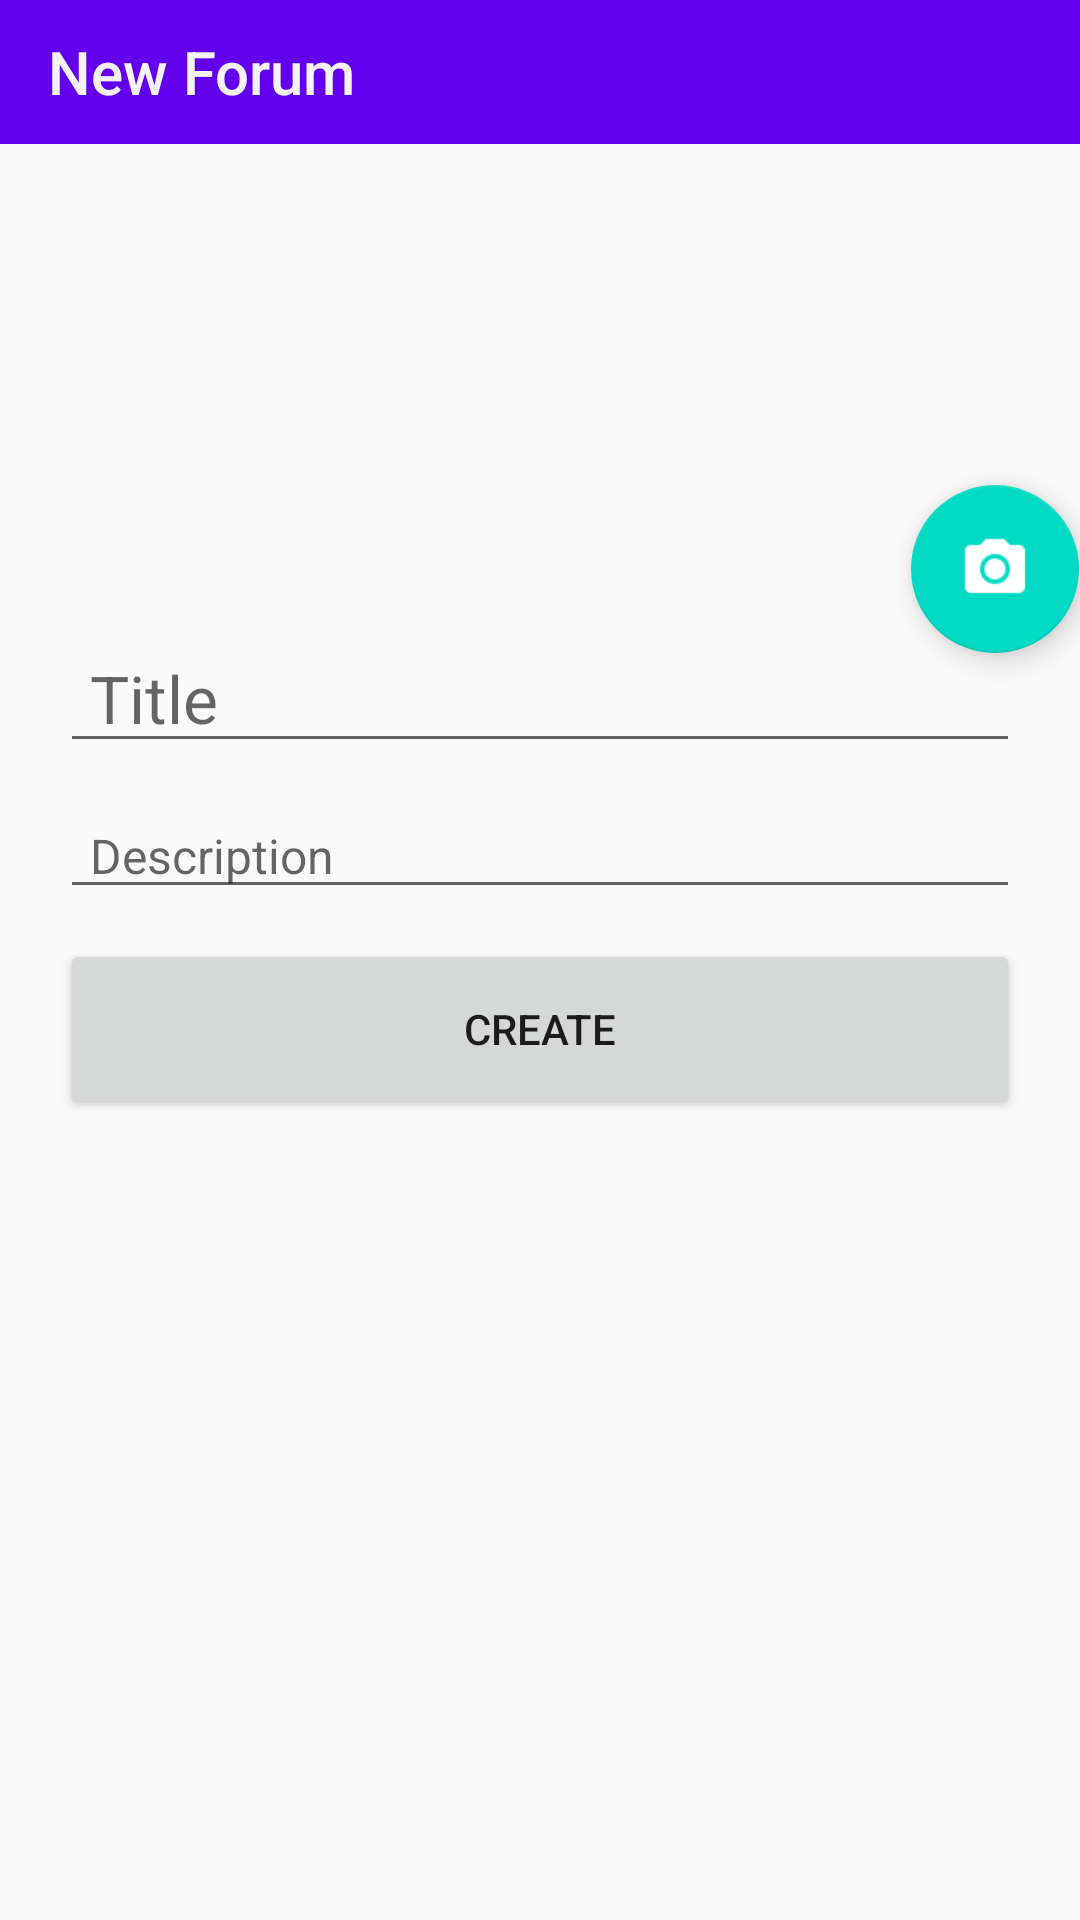

Where icons sit on this 1080x1920 app screen, as (x1, y1, x2, y2):
cam: (911, 485, 1079, 653)
